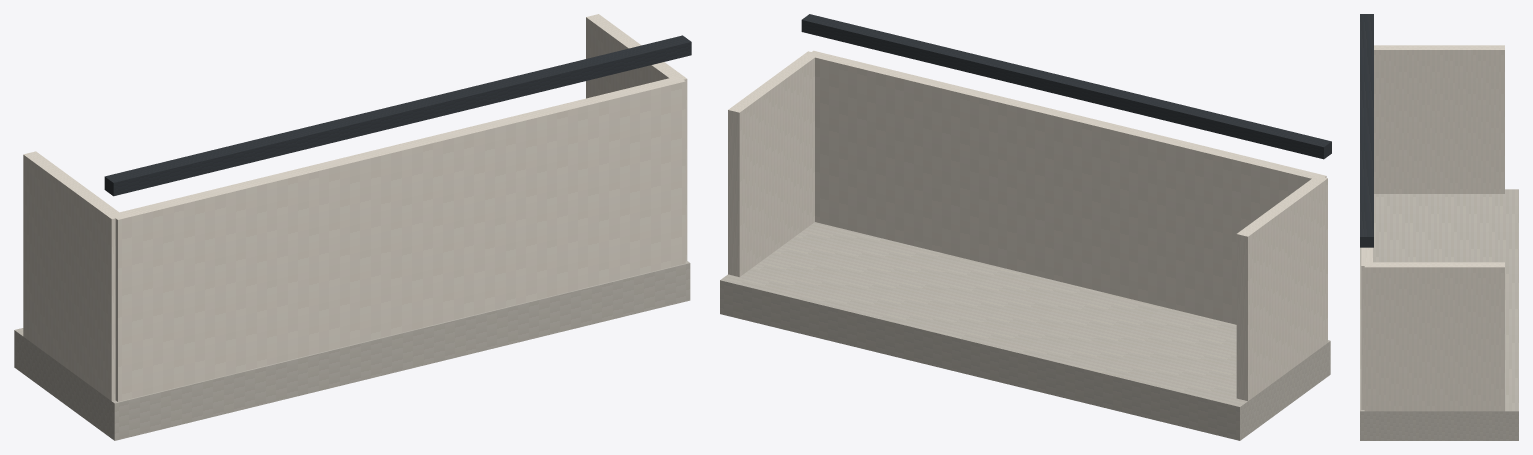
Rendered from balcony-modern-lod1.glb.
3 renders of one model, left to right at view 1: azimuth 30°, elevation 25°; view 2: azimuth 150°, elevation 25°; view 3: azimuth 270°, elevation 25°, orthographic. The views are drawn at different scales.
Visible parts, largest first — view 1: balcony-modern-lod1; view 2: balcony-modern-lod1; view 3: balcony-modern-lod1.
Boxes of the visible parts, x1,y1,x2,y2 form: balcony-modern-lod1: [14, 14, 691, 440]; balcony-modern-lod1: [720, 14, 1331, 440]; balcony-modern-lod1: [1360, 14, 1518, 440].
Size of the model in its own units: 2.26 by 0.965 by 0.68.
Materials: 1 (1 with a texture image).
